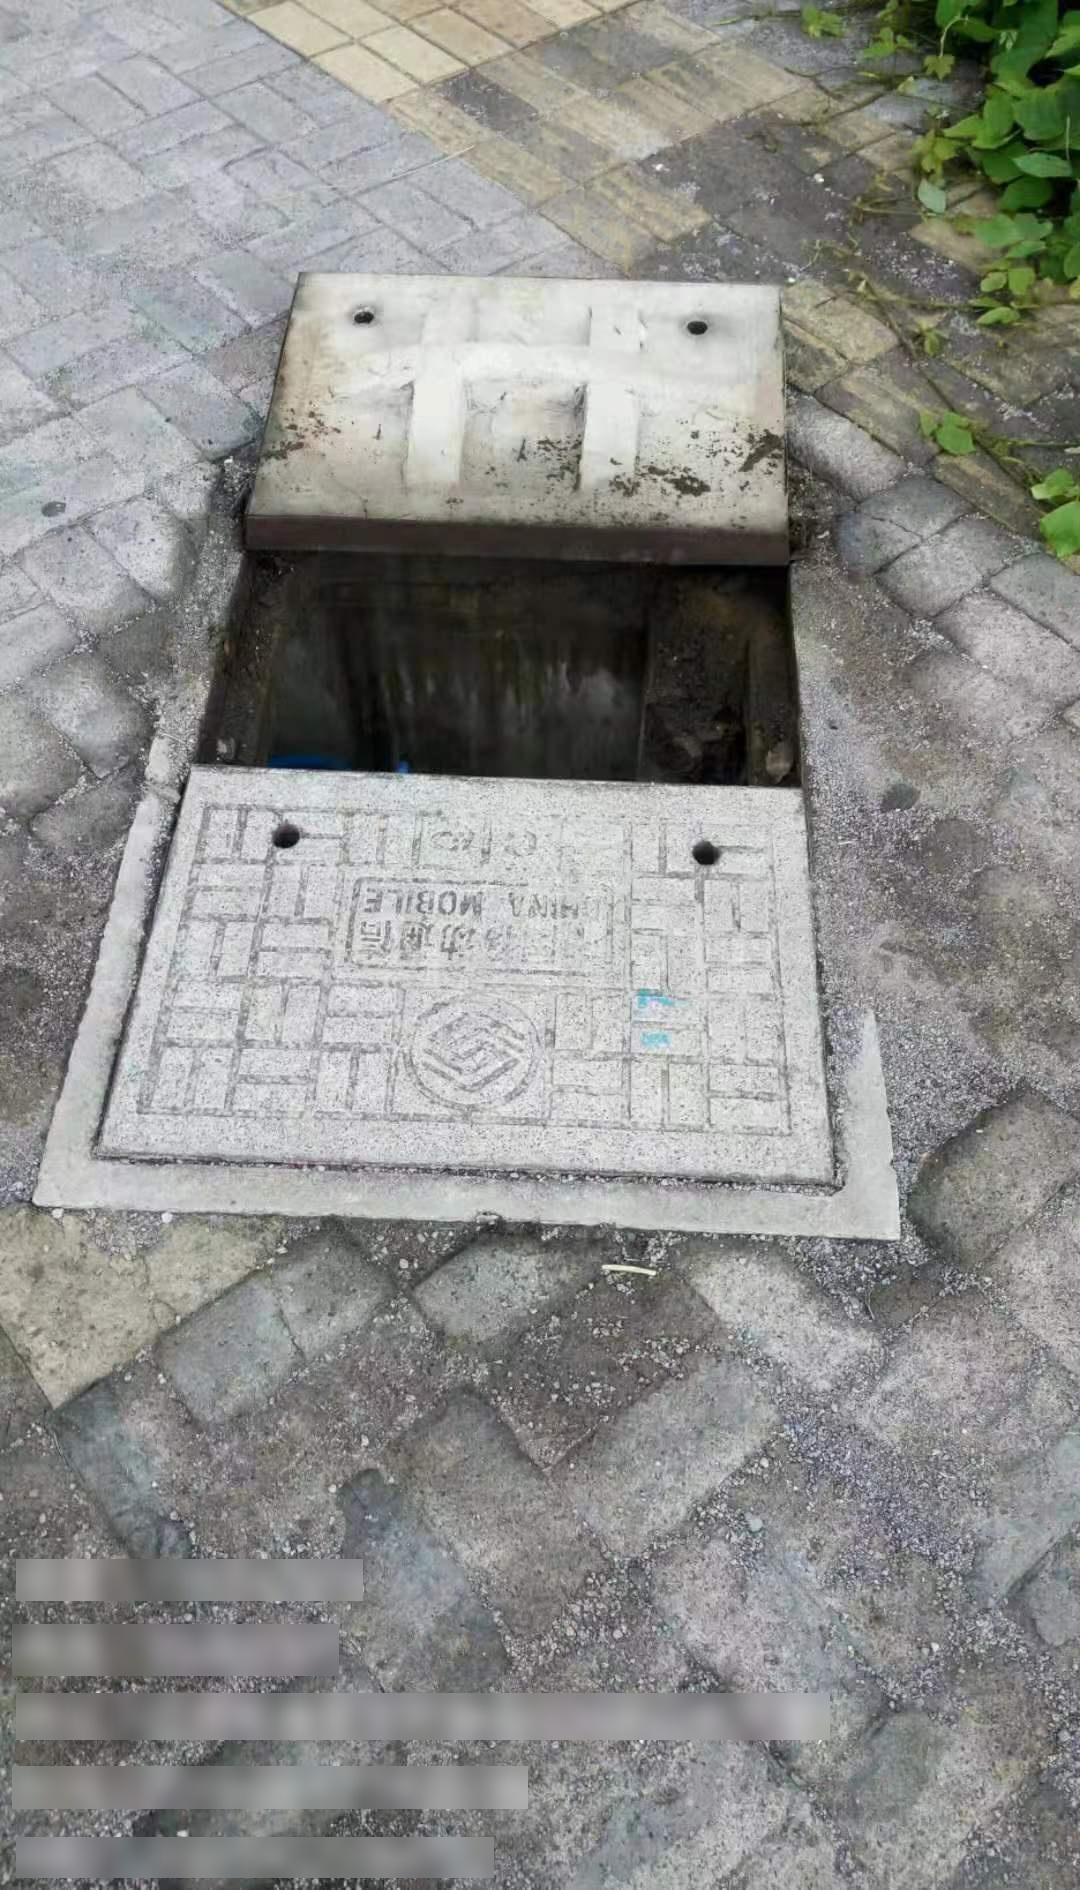uncovered: (34, 262, 903, 1253)
